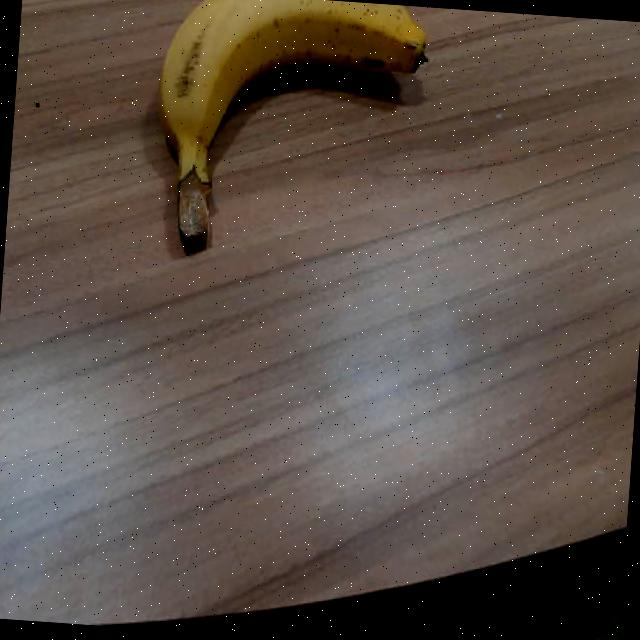Ripe: (122, 0, 451, 275)
